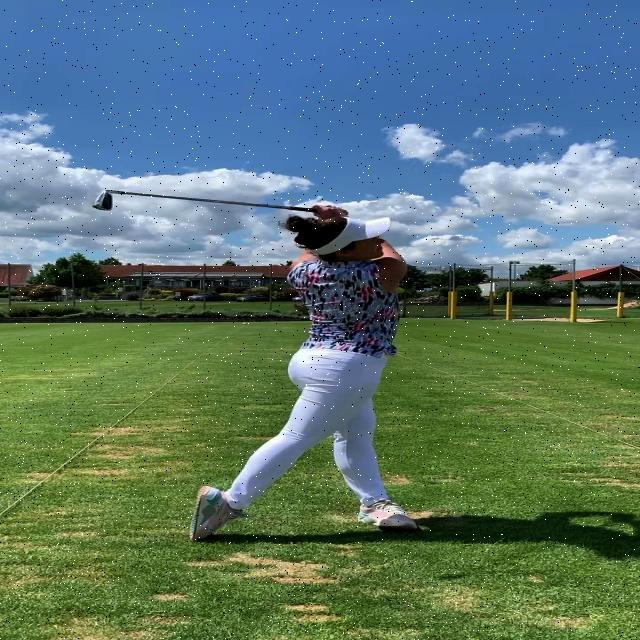ClubHandle: (94, 191, 348, 220)
ClubHead: (98, 192, 119, 211)
